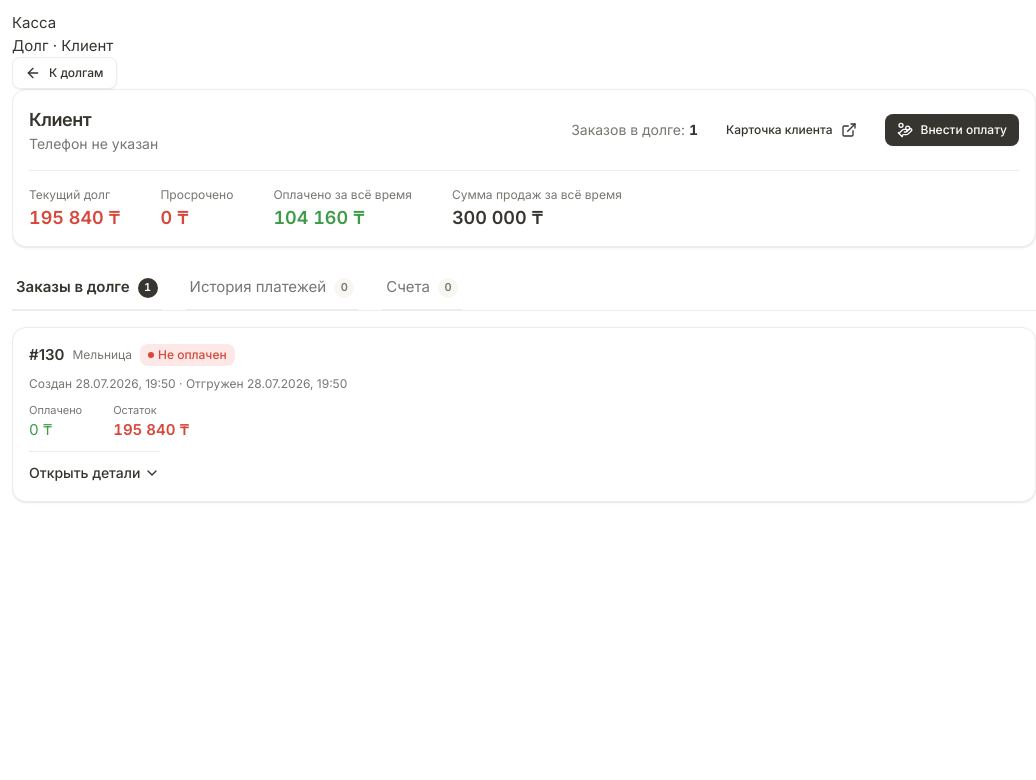
Test: renders debt orders as cards on phones with payment actions only inside details
The width and height of the screenshot is (1036, 780).
Expected: the text "#130" is shown, [29, 344, 64, 366]
Expected: the text "Остаток" is shown, [113, 403, 157, 417]
Click the button "#130" at (102, 354), box [29, 344, 1019, 484]
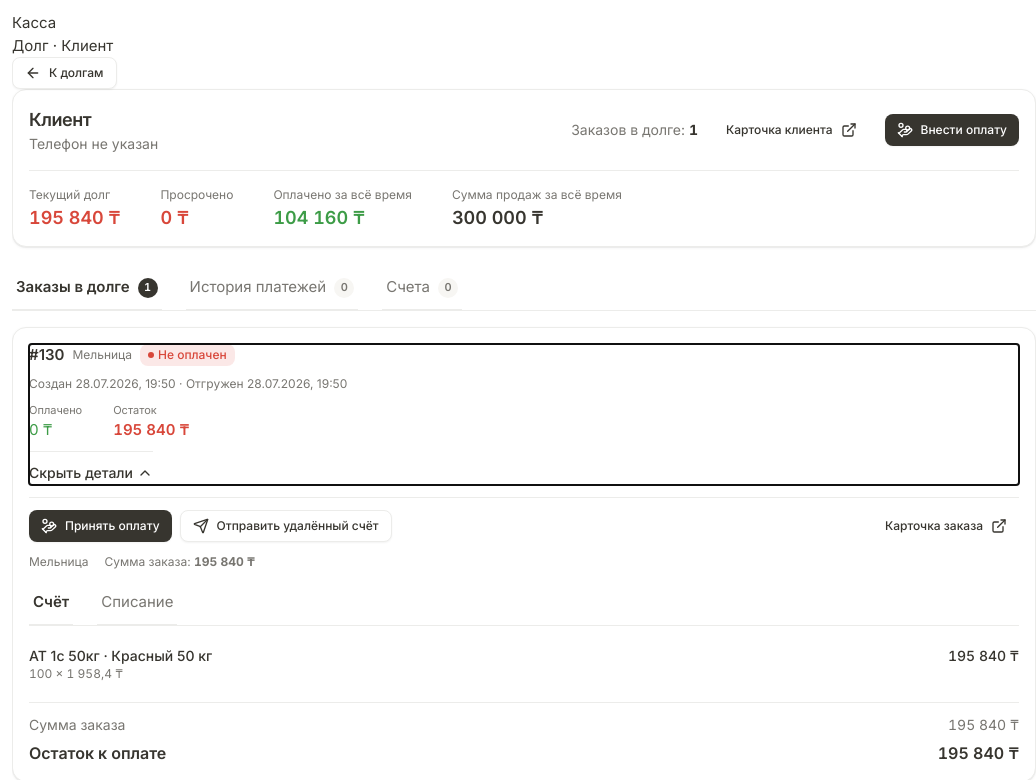
Expected: the button "#130" is expanded, [29, 344, 1019, 484]
Expected: the button "#130" shows "Скрыть детали", [29, 344, 1019, 484]
Expected: the text "АТ 1с 50кг · Красный 50 кг" is shown, [29, 646, 212, 666]
